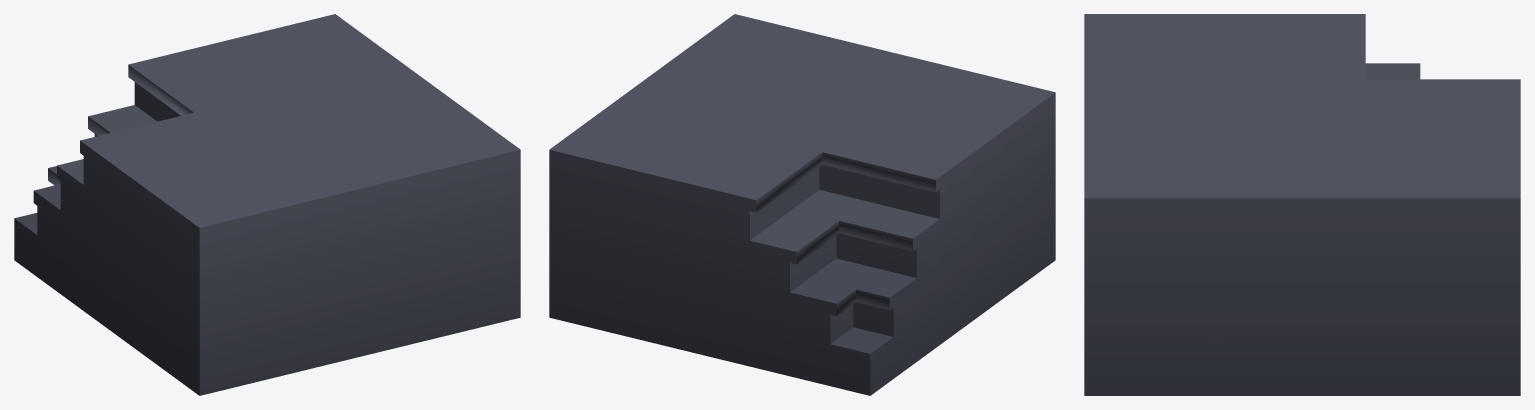
File: stairs-full-corner-inner.glb
The picture shows the model from 3 angles, left to right: view 1: azimuth 30°, elevation 25°; view 2: azimuth 150°, elevation 25°; view 3: azimuth 270°, elevation 25°; orthographic projection. The views are drawn at different scales.
Parts seen in each view (by area): view 1: stairs-full-corner-inner; view 2: stairs-full-corner-inner; view 3: stairs-full-corner-inner.
Boxes of the visible parts, x1,y1,x2,y2 form: stairs-full-corner-inner: [14, 14, 520, 395]; stairs-full-corner-inner: [549, 14, 1055, 395]; stairs-full-corner-inner: [1084, 14, 1520, 395].
Bounding box in the file's own units: 1 × 0.5 × 1.
Materials: 1 (1 with a texture image).
